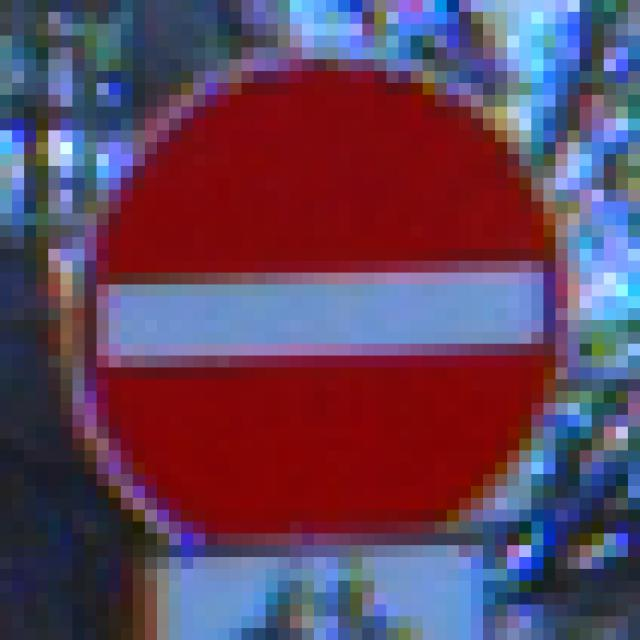No Entry: (62, 60, 581, 582)
